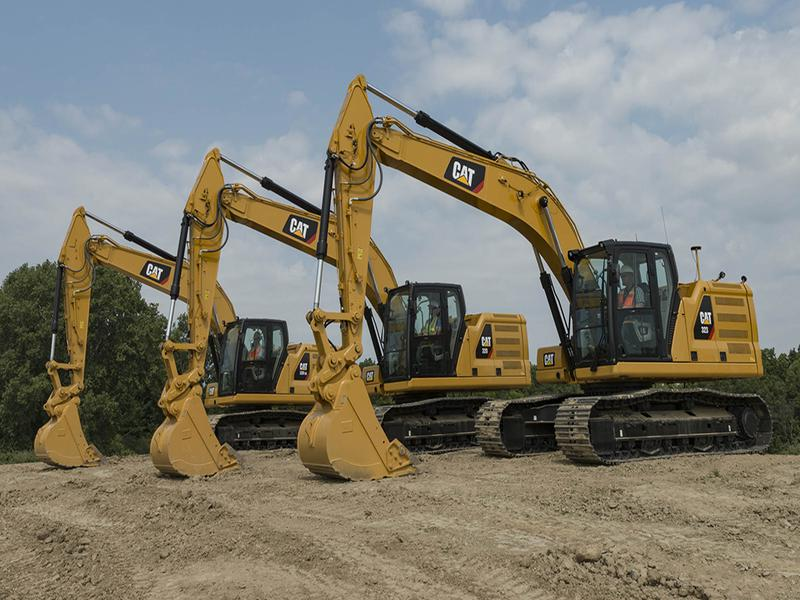shovel: (294, 71, 779, 491)
